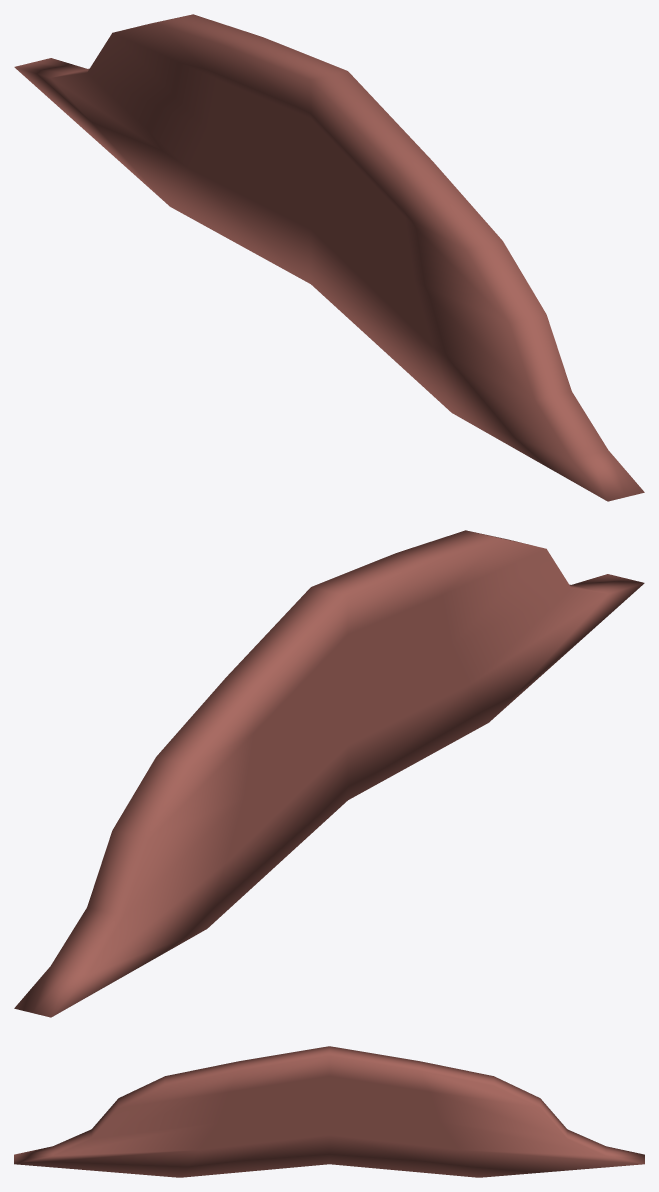
The model's file is tycoon_moustache.fbx.
The picture shows the model from 3 angles, top to bottom: view 1: azimuth 30°, elevation 25°; view 2: azimuth 150°, elevation 25°; view 3: azimuth 270°, elevation 25°; orthographic projection. The views are drawn at different scales.
Parts seen in each view (by area): view 1: moustache; view 2: moustache; view 3: moustache.
Boxes of the visible parts, <box> form: moustache: <box>14,14,644,501</box>; moustache: <box>14,530,644,1017</box>; moustache: <box>14,1046,644,1177</box>.
Size of the model in its own units: 2.02 by 11.92 by 55.88.
